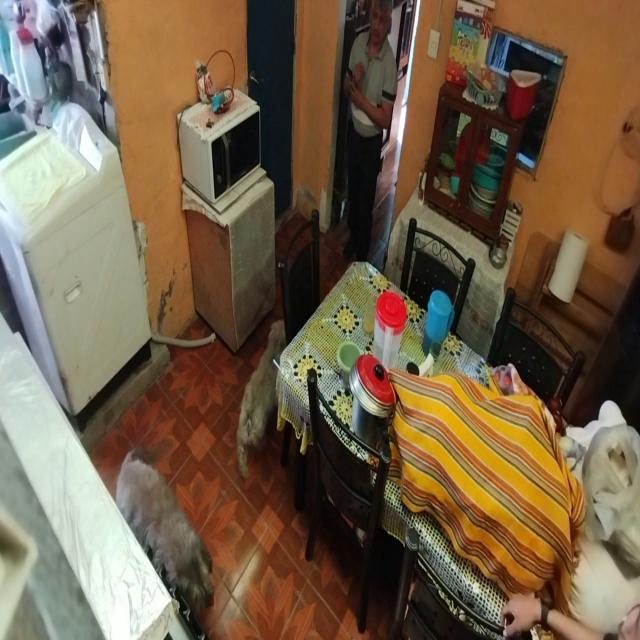adult: (344, 6, 394, 273)
